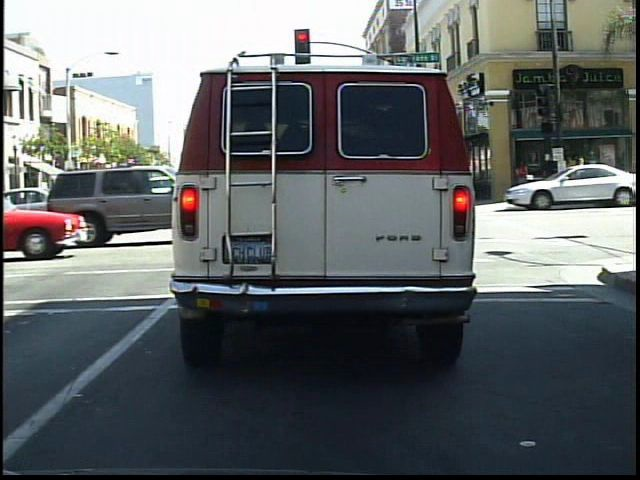person: (539, 151, 562, 208), (513, 156, 533, 183)
